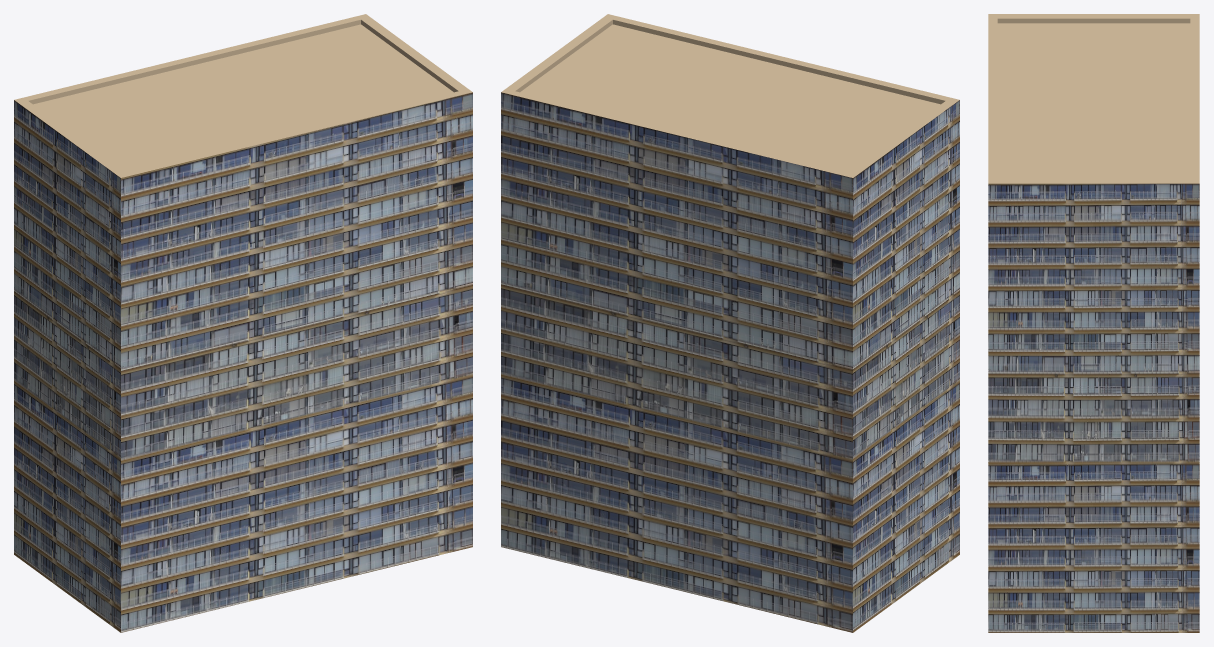
Rendered from Building.FBX.
3 renders of one model, left to right at view 1: azimuth 30°, elevation 25°; view 2: azimuth 150°, elevation 25°; view 3: azimuth 270°, elevation 25°, orthographic.
Parts seen in each view (by area): view 1: Building; view 2: Building; view 3: Building.
Part boxes in pixels (x1=…): Building: x1=14, y1=14, x2=472, y2=632; Building: x1=501, y1=14, x2=959, y2=632; Building: x1=988, y1=14, x2=1199, y2=632.
Size of the model in its own units: 66544 by 35000 by 82171.
Materials: 1 (1 with a texture image).
